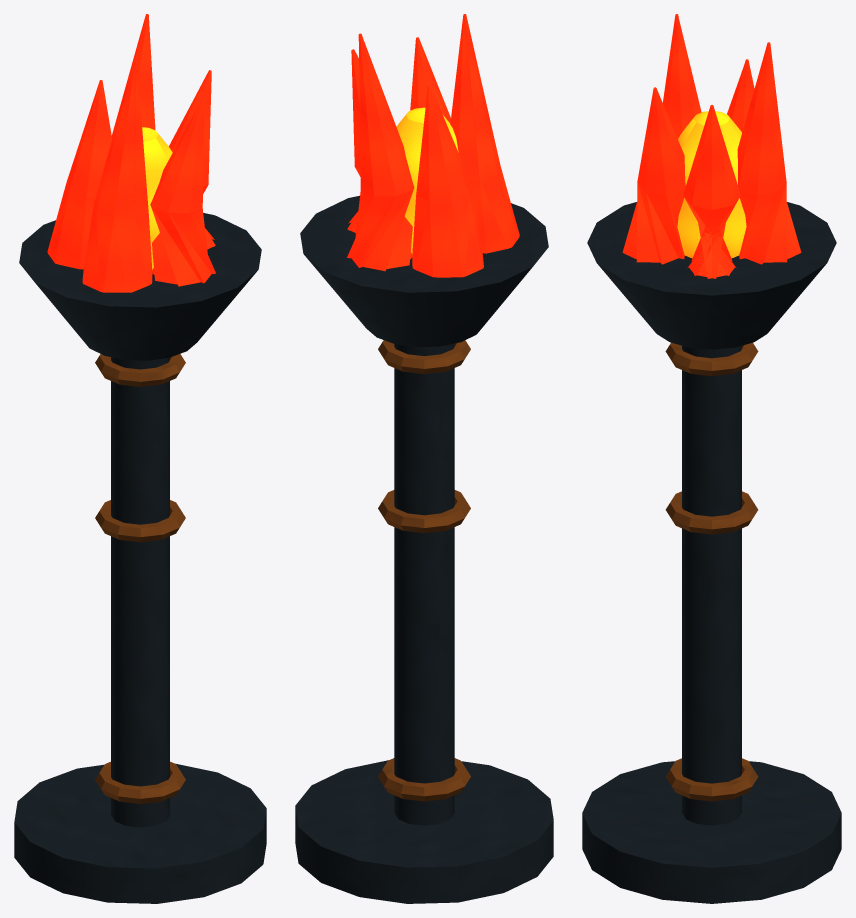
File: standing_torch.glb
The picture shows the model from 3 angles, left to right: view 1: azimuth 30°, elevation 25°; view 2: azimuth 150°, elevation 25°; view 3: azimuth 270°, elevation 25°; orthographic projection. The views are drawn at different scales.
Visible parts, largest first — view 1: standing_torch; view 2: standing_torch; view 3: standing_torch.
Part boxes in pixels (x1,y1,x2,y2): standing_torch: (14,14,266,903); standing_torch: (295,14,553,903); standing_torch: (582,14,841,903).
Bounding box in the file's own units: 0.52 × 1.82 × 0.52.
Materials: 4 (4 with a texture image).
